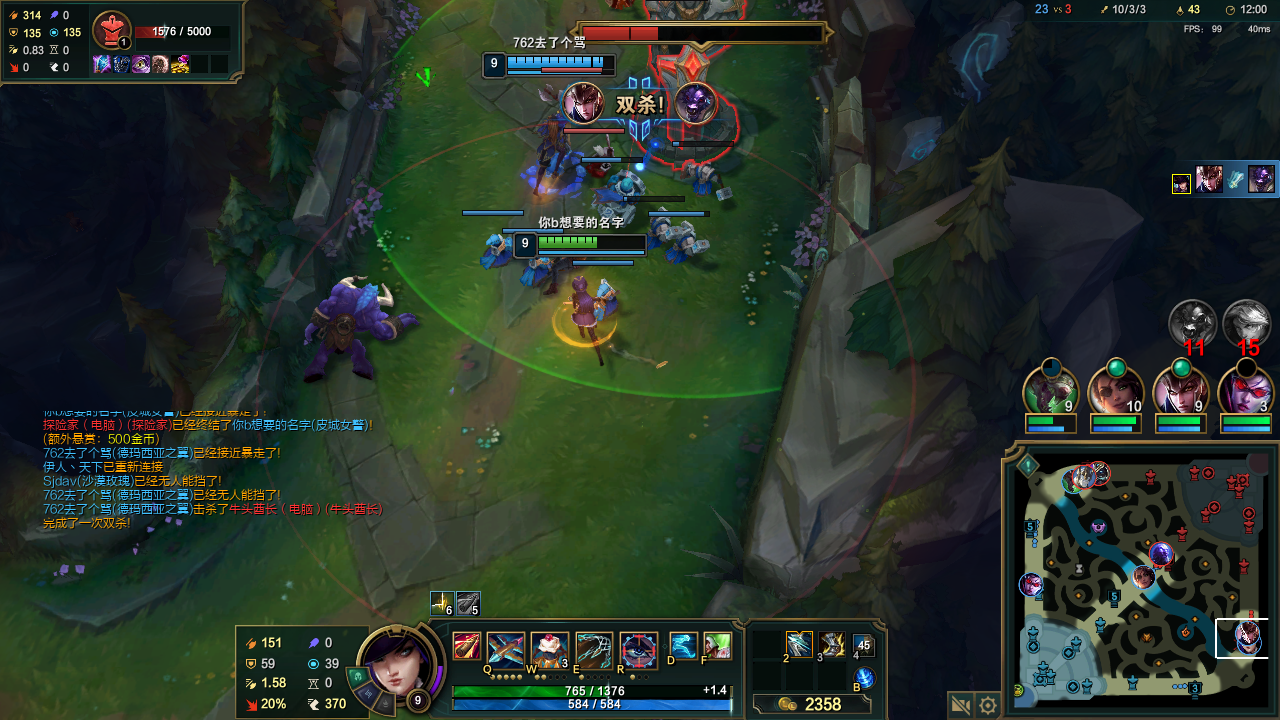DFFYT: (581, 10, 759, 158)
DFXB: (588, 144, 615, 172)
KF: (785, 630, 815, 652)
WFXB: (603, 174, 651, 222), (668, 221, 715, 263), (686, 159, 729, 201), (477, 234, 518, 267), (640, 209, 670, 237), (524, 261, 555, 283)
